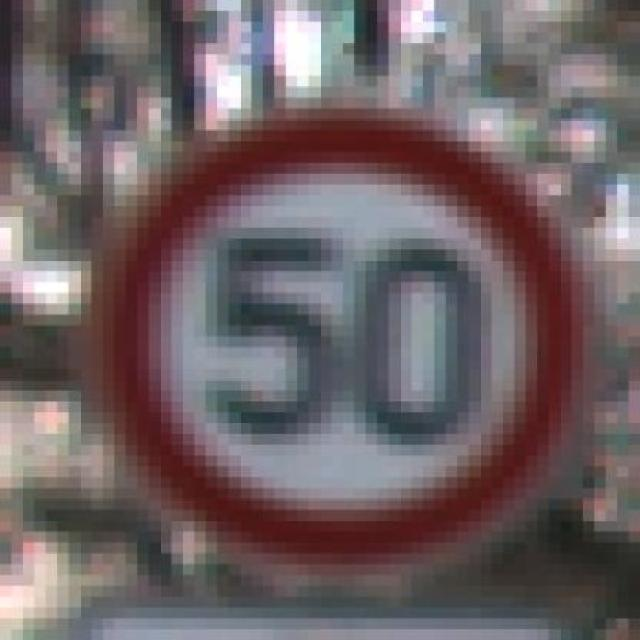forb_speed_over_50: (122, 133, 556, 556)
